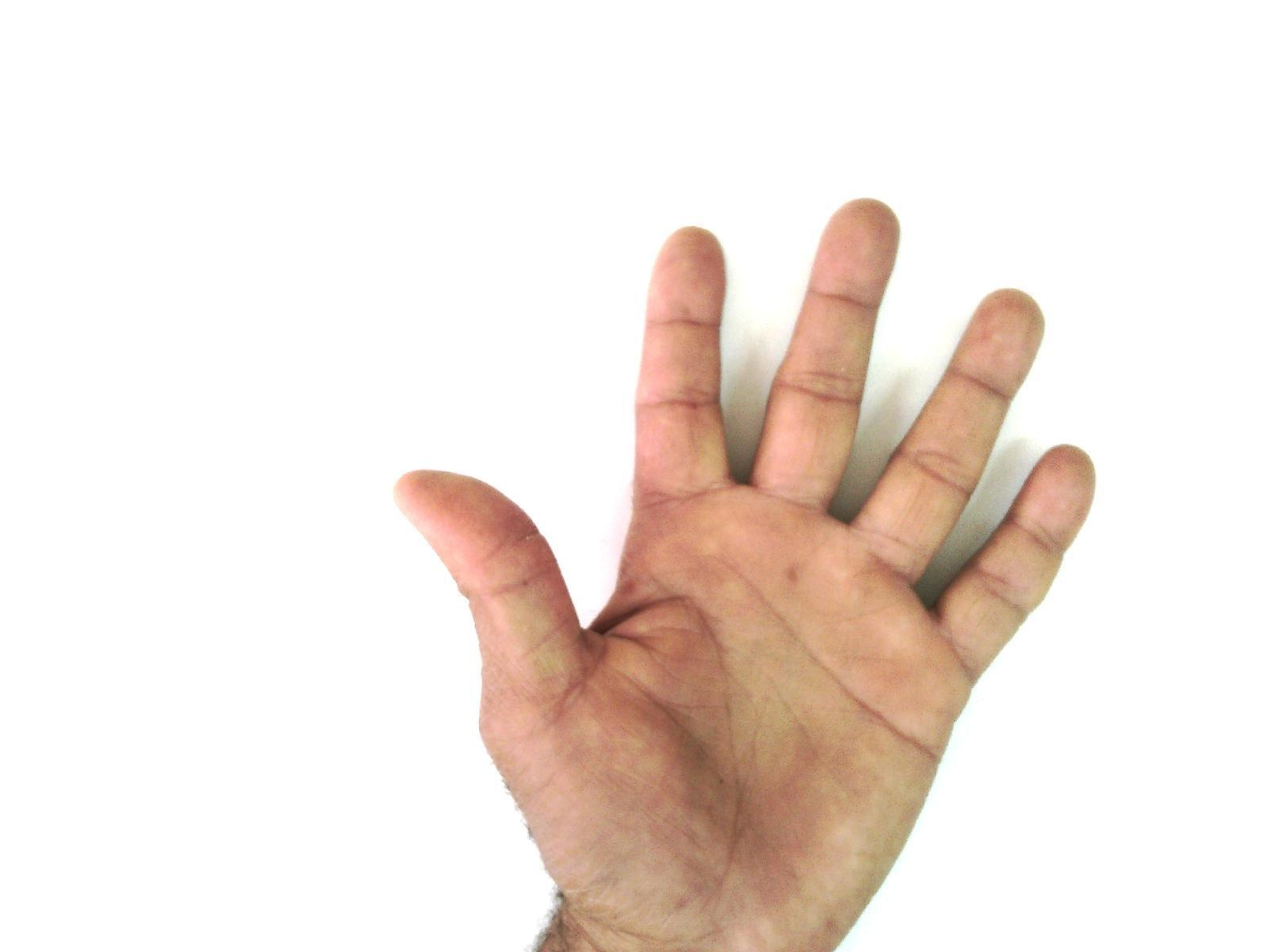open_palm: (391, 197, 1098, 951)
